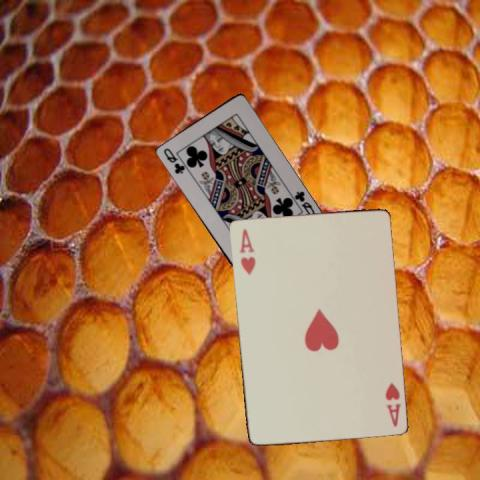Ah: (235, 225, 257, 276), (382, 379, 401, 428)
Qc: (160, 146, 186, 176), (291, 188, 316, 217)
